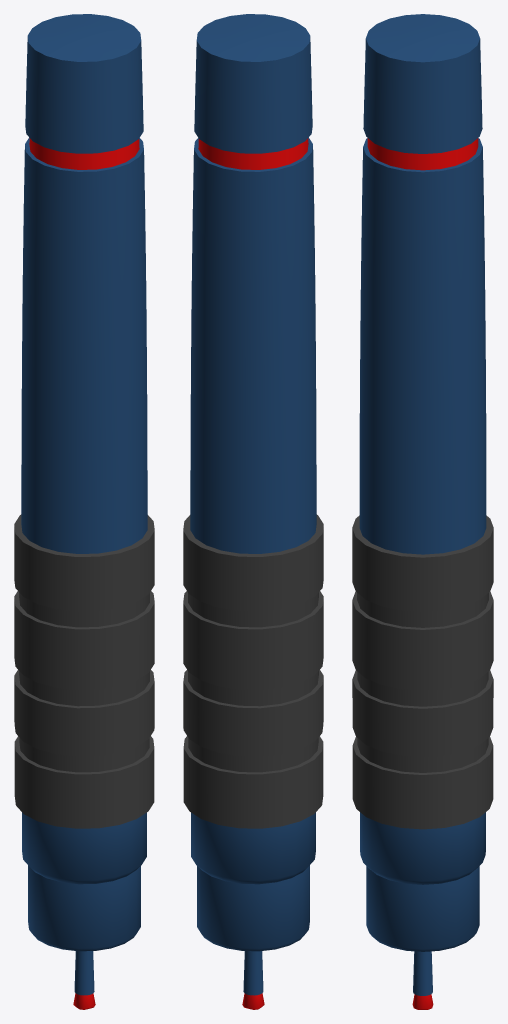
Rendered from Pen_1.FBX.
The picture shows the model from 3 angles, left to right: view 1: azimuth 30°, elevation 25°; view 2: azimuth 150°, elevation 25°; view 3: azimuth 270°, elevation 25°; orthographic projection.
Visible parts, largest first — view 1: Cylinder050; view 2: Cylinder050; view 3: Cylinder050.
Part boxes in pixels (box(x1,y1,x2,y2)): Cylinder050: box(14, 14, 154, 1009); Cylinder050: box(183, 14, 323, 1009); Cylinder050: box(352, 14, 493, 1009).
Bounding box in the file's own units: 60.03 × 455 × 60.03.
